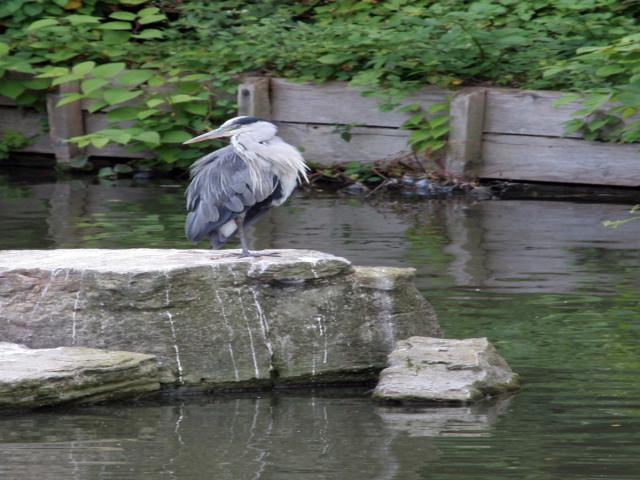Bird: (180, 116, 310, 258)
